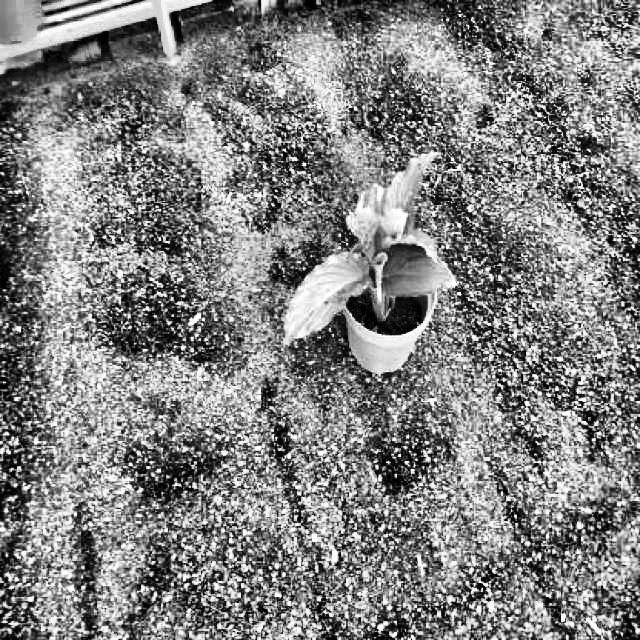plants: (282, 149, 456, 354)
